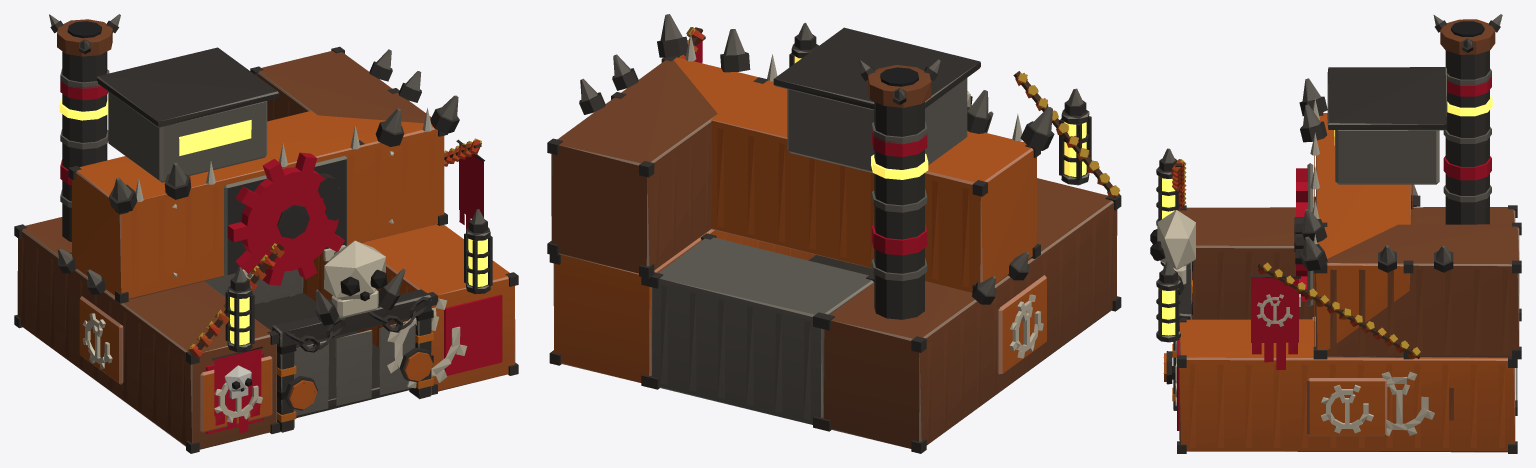
3 renders of one model, left to right at view 1: azimuth 30°, elevation 25°; view 2: azimuth 150°, elevation 25°; view 3: azimuth 270°, elevation 25°, orthographic. The views are drawn at different scales.
Parts seen in each view (by area): view 1: bb_hq; view 2: bb_hq; view 3: bb_hq.
Part boxes in pixels (left/top/right/bottom): bb_hq: left=14, top=14, right=518, bottom=453; bb_hq: left=547, top=14, right=1121, bottom=453; bb_hq: left=1150, top=14, right=1521, bottom=453.
Bounding box in the file's own units: 9.72 × 8.2 × 9.24.
